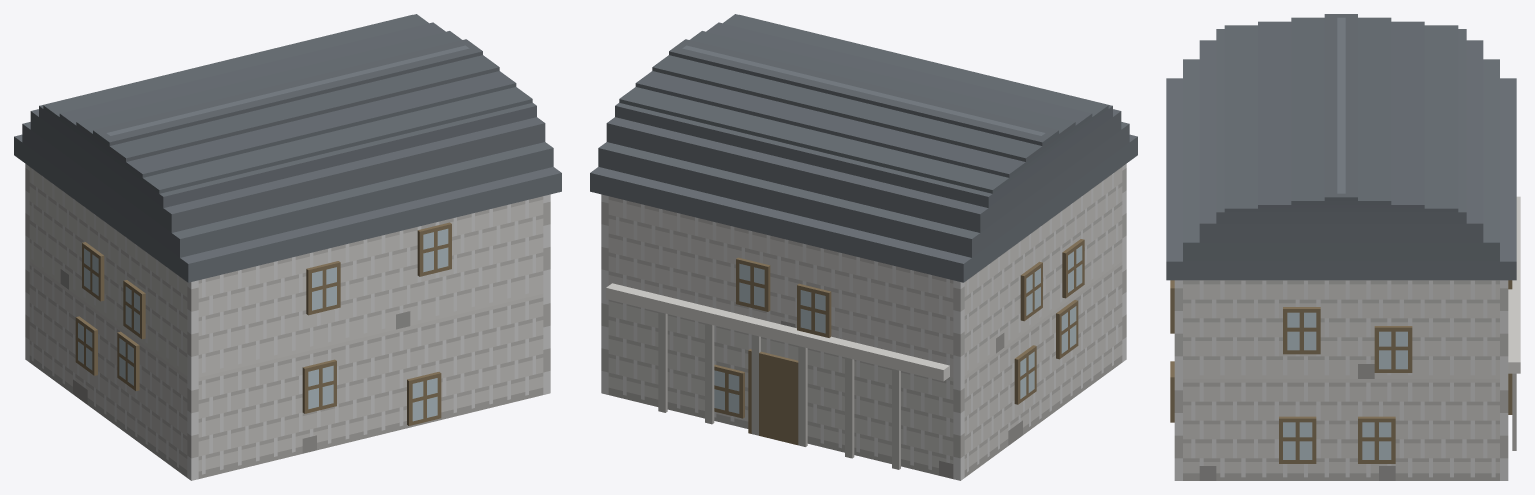
File: casa_de_cambio_04.glb
3 views of the same model, side by side, from view 1: azimuth 30°, elevation 25°; view 2: azimuth 150°, elevation 25°; view 3: azimuth 270°, elevation 25° (orthographic).
Visible parts, largest first — view 1: casa_de_cambio_04; view 2: casa_de_cambio_04; view 3: casa_de_cambio_04.
Part boxes in pixels (<box>): casa_de_cambio_04: <box>14,14,561,480</box>; casa_de_cambio_04: <box>590,14,1137,480</box>; casa_de_cambio_04: <box>1166,14,1520,480</box>.
Bounding box in the file's own units: 10.4 × 7.6 × 8.5.
